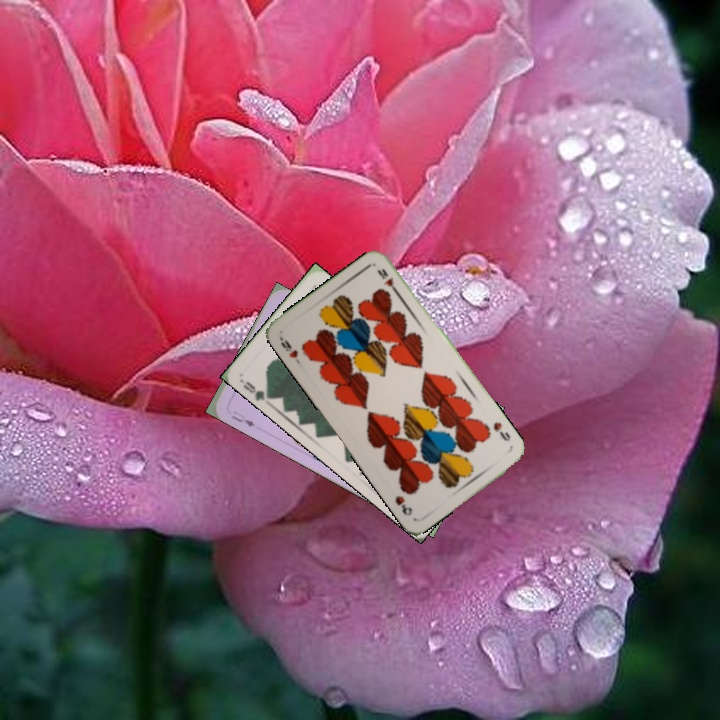EU: (227, 407, 257, 429)
G9: (239, 377, 274, 403)
H9: (276, 333, 305, 369), (489, 418, 513, 444)
